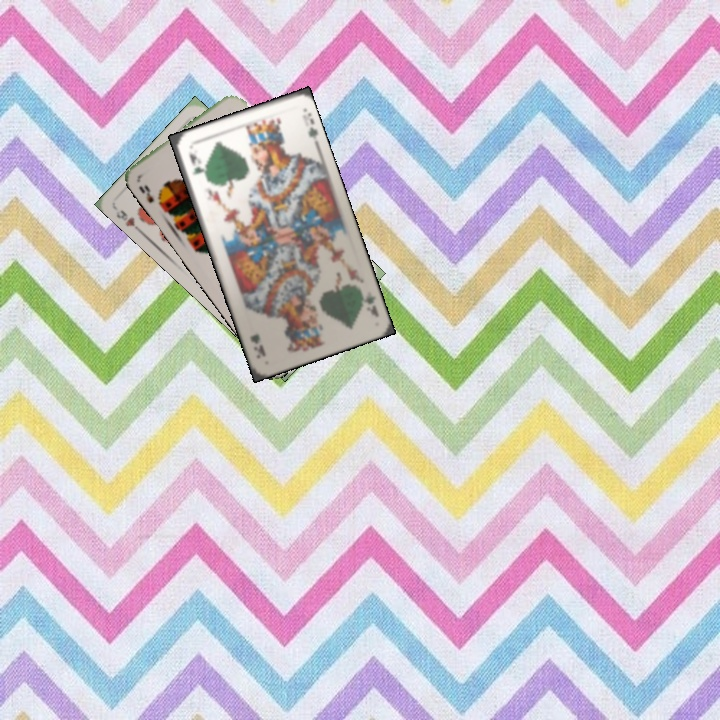GK: (354, 285, 381, 319), (185, 147, 206, 177)
H9: (112, 206, 144, 235)
S9: (135, 181, 167, 210)
